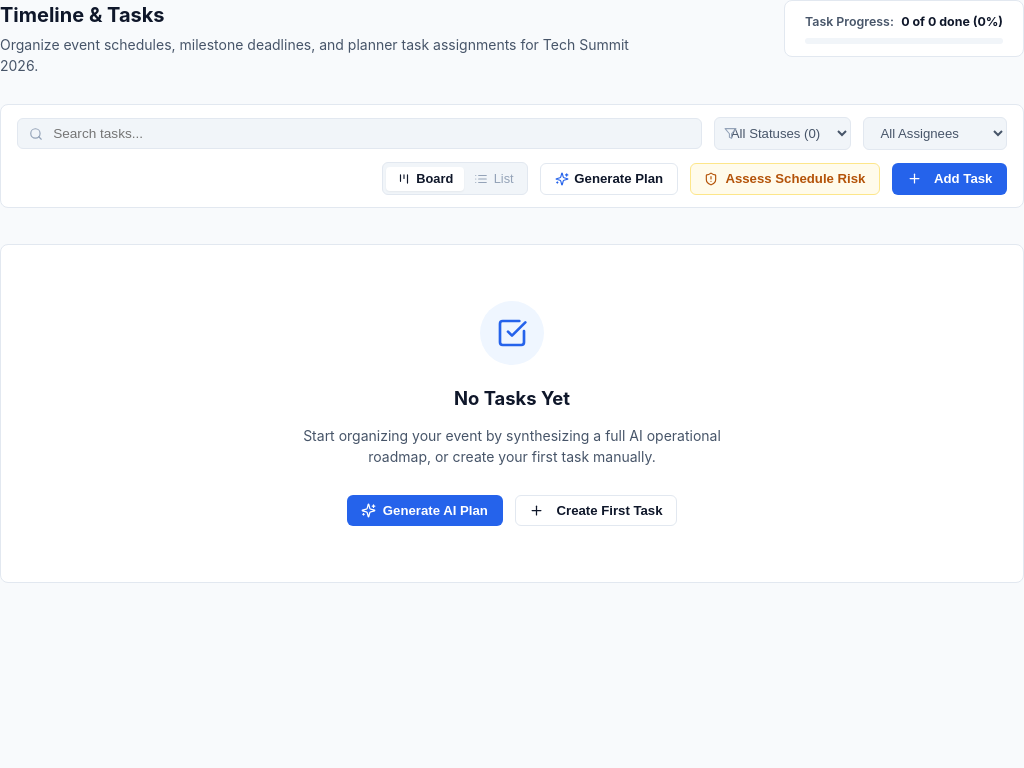
EventTimelineTab & Task Management (Epic 3.3) › clicking empty state 'Generate AI Plan' button opens the GeneratePlanModal
Step 1. Click the button "Generate AI Plan" → coordinates (425, 511), box [347, 495, 502, 526]
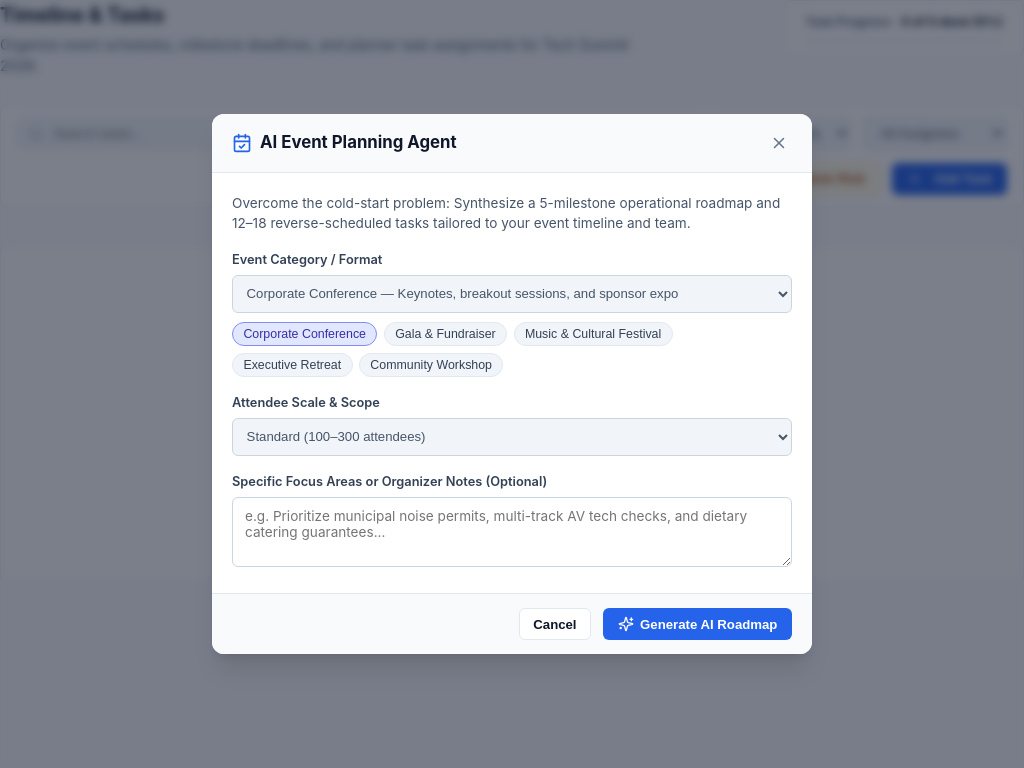
Now the dialog is shown
Now the text "AI Event Planning Agent" is shown, box [260, 130, 457, 156]
